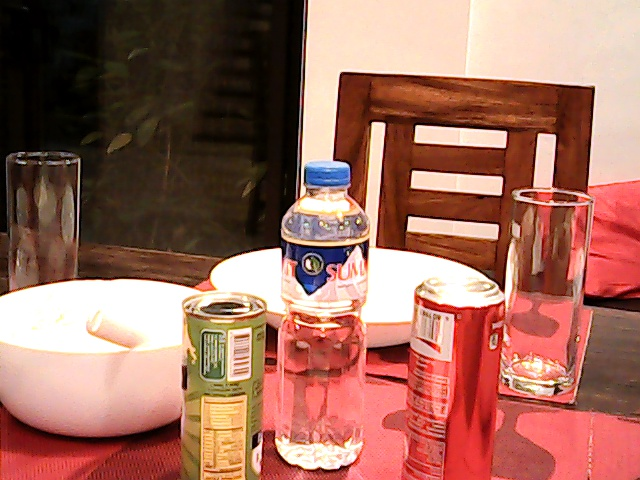Cola: (402, 273, 504, 480)
Pine Juice: (175, 283, 260, 480)
Summit Water: (273, 167, 374, 480)
